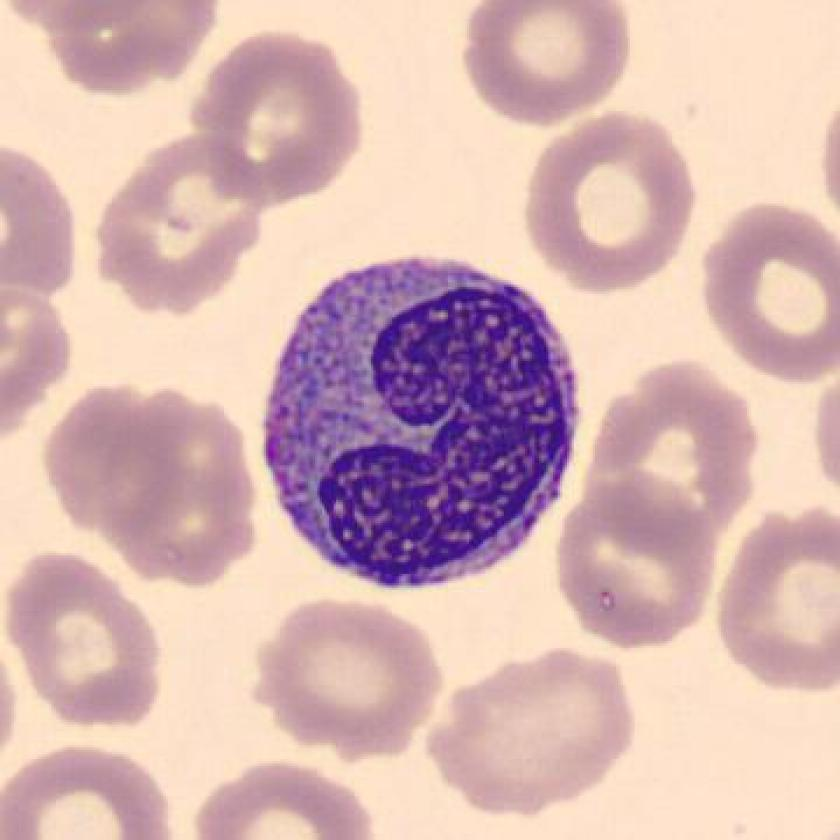monocyte: (239, 230, 603, 619)
